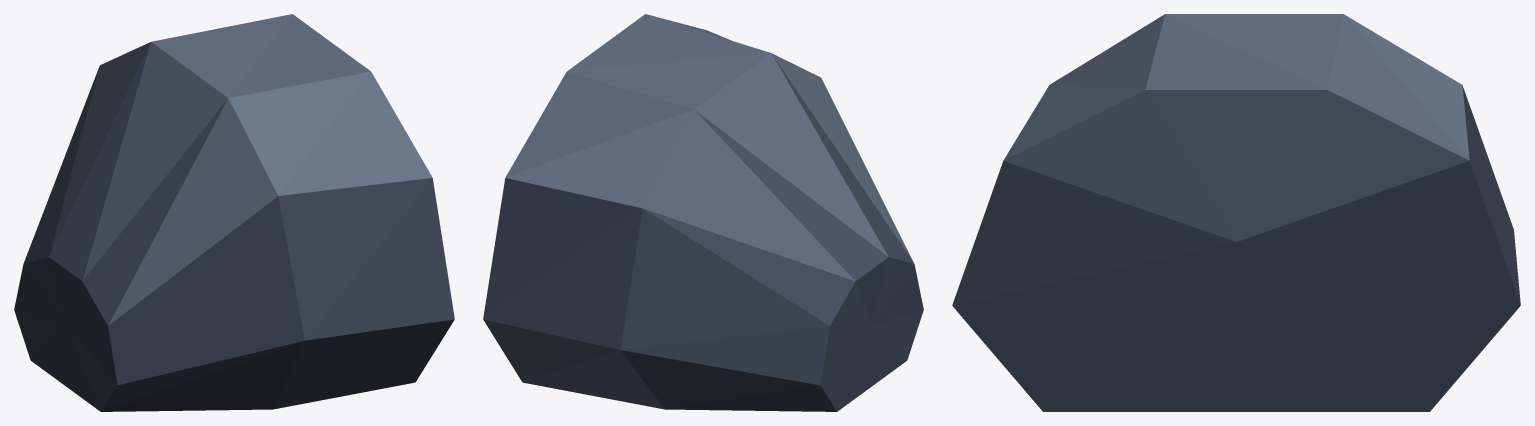
File: ledge_z1_rock_cap_l.glb
3 renders of one model, left to right at view 1: azimuth 30°, elevation 25°; view 2: azimuth 150°, elevation 25°; view 3: azimuth 270°, elevation 25°, orthographic. The views are drawn at different scales.
Visible parts, largest first — view 1: ledge_z1_rock_cap_l; view 2: ledge_z1_rock_cap_l; view 3: ledge_z1_rock_cap_l.
Part boxes in pixels (bbox=[...]): ledge_z1_rock_cap_l: bbox=[14, 14, 454, 411]; ledge_z1_rock_cap_l: bbox=[483, 14, 923, 411]; ledge_z1_rock_cap_l: bbox=[952, 14, 1520, 411].
Size of the model in its own units: 1 by 1 by 1.6.
